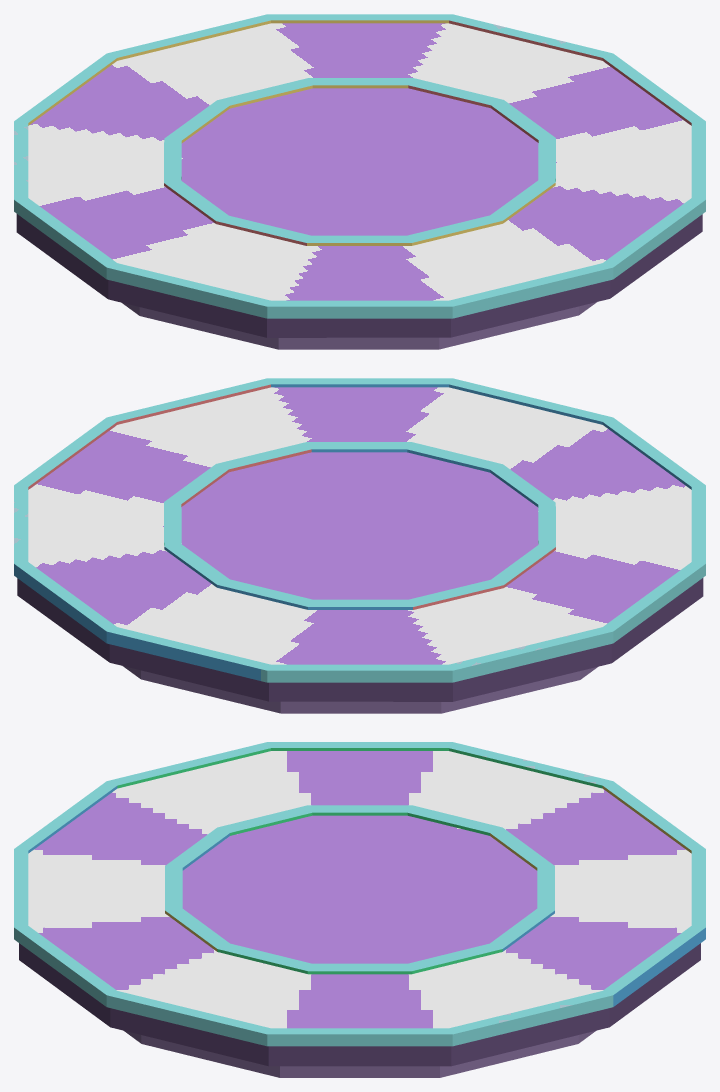
The model's file is bounce_pad_medium.gltf.
The picture shows the model from 3 angles, top to bottom: view 1: azimuth 30°, elevation 25°; view 2: azimuth 150°, elevation 25°; view 3: azimuth 270°, elevation 25°; orthographic projection.
Visible parts, largest first — view 1: tube; view 2: tube; view 3: tube.
Boxes of the visible parts, x1=… form: tube: x1=14, y1=14, x2=705, y2=349; tube: x1=14, y1=378, x2=705, y2=713; tube: x1=14, y1=742, x2=705, y2=1077.
Size of the model in its own units: 1.25 by 0.125 by 1.25.
Materials: 1 (1 with a texture image).
